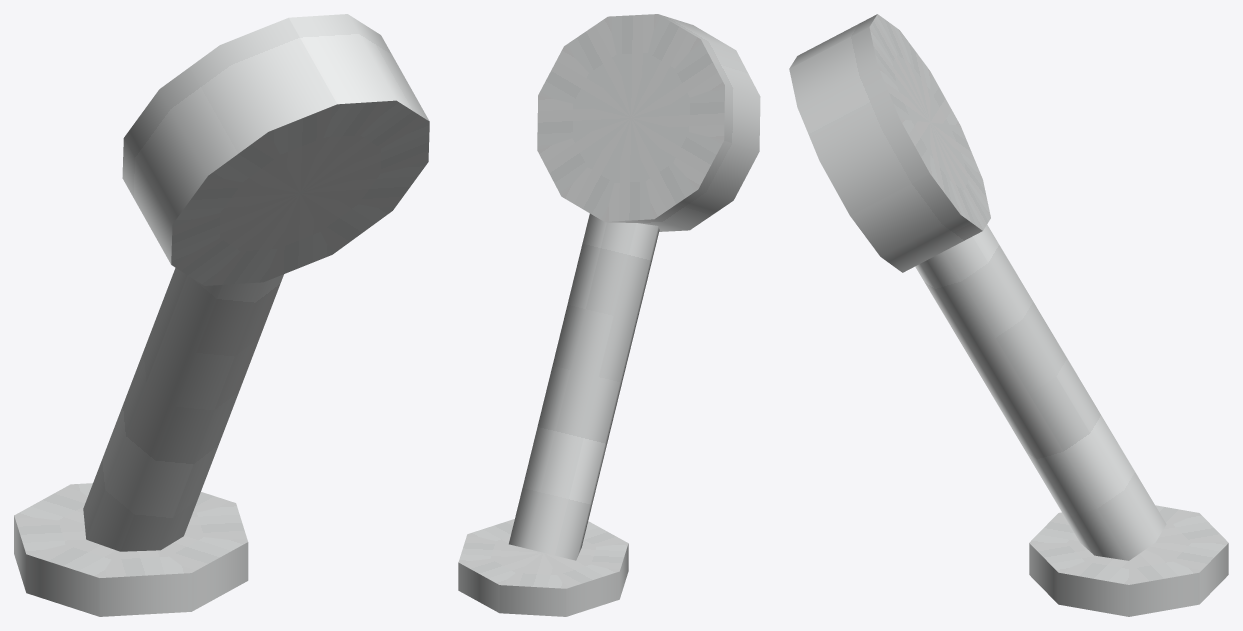
File: nycsignalarm_stub_14.obj
3 views of the same model, side by side, from view 1: azimuth 30°, elevation 25°; view 2: azimuth 150°, elevation 25°; view 3: azimuth 270°, elevation 25° (orthographic). The views are drawn at different scales.
Parts seen in each view (by area): view 1: nycsignalarm_stub_14; view 2: nycsignalarm_stub_14; view 3: nycsignalarm_stub_14.
Part boxes in pixels (left/top/right/bottom): nycsignalarm_stub_14: left=14, top=14, right=429, bottom=616; nycsignalarm_stub_14: left=458, top=14, right=760, bottom=616; nycsignalarm_stub_14: left=789, top=14, right=1228, bottom=616.
Bounding box in the file's own units: 0.427 × 1.06 × 0.7708.
